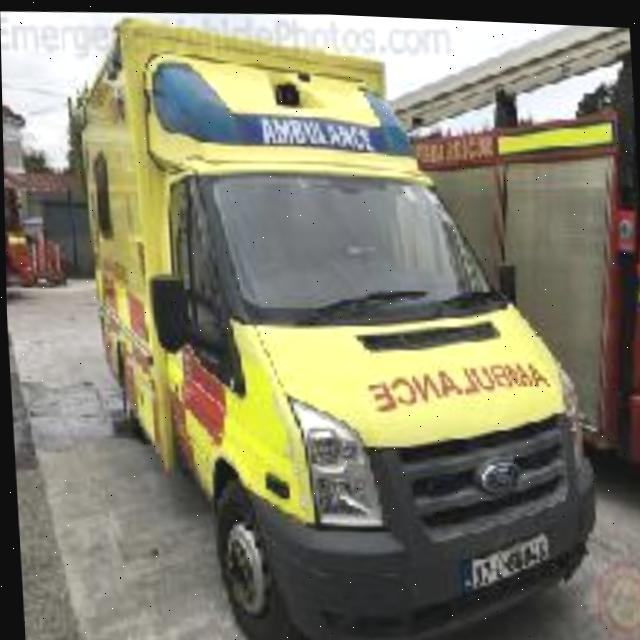emergency: (58, 27, 605, 640)
